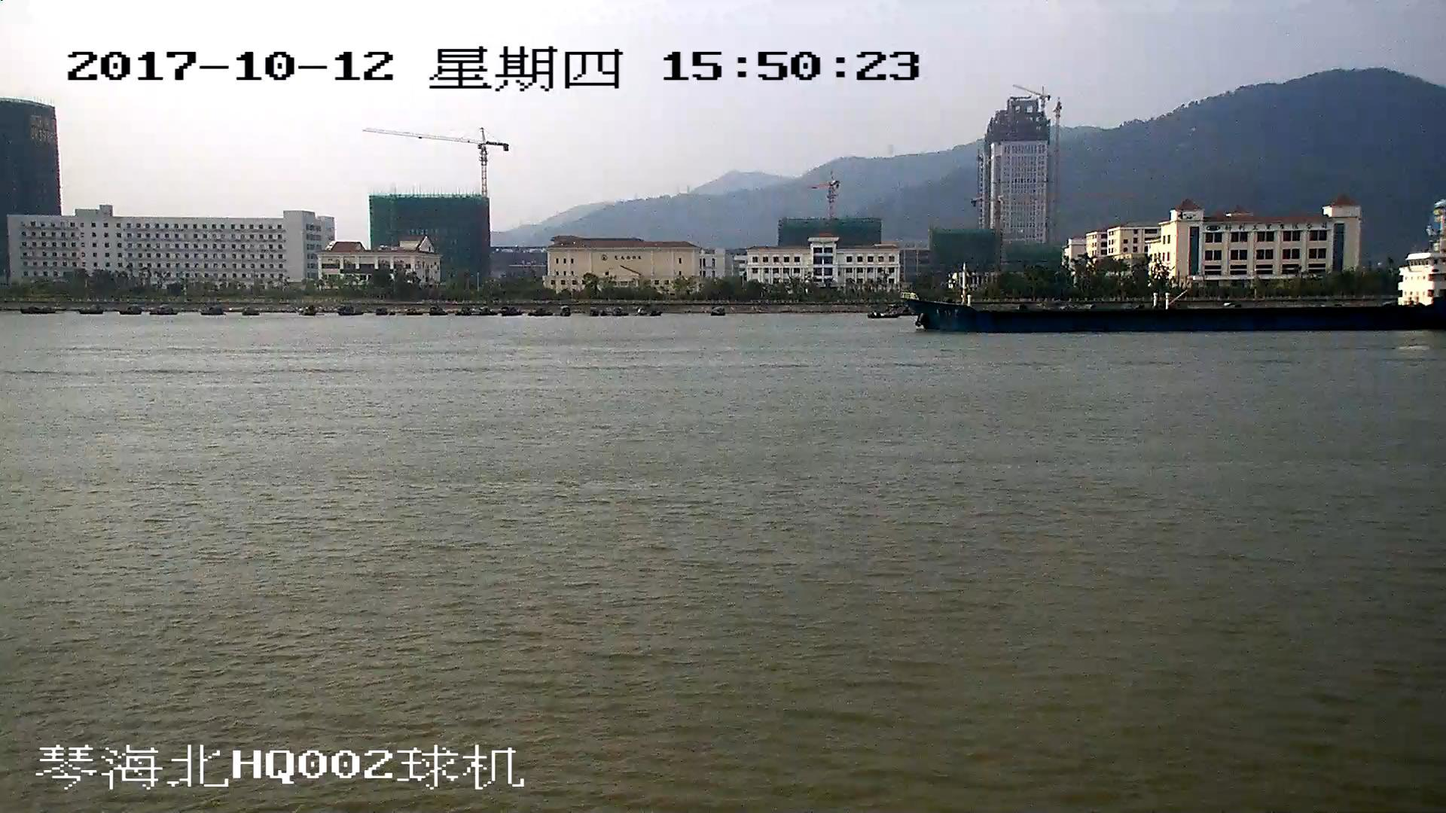general cargo ship: (906, 245, 1445, 332)
